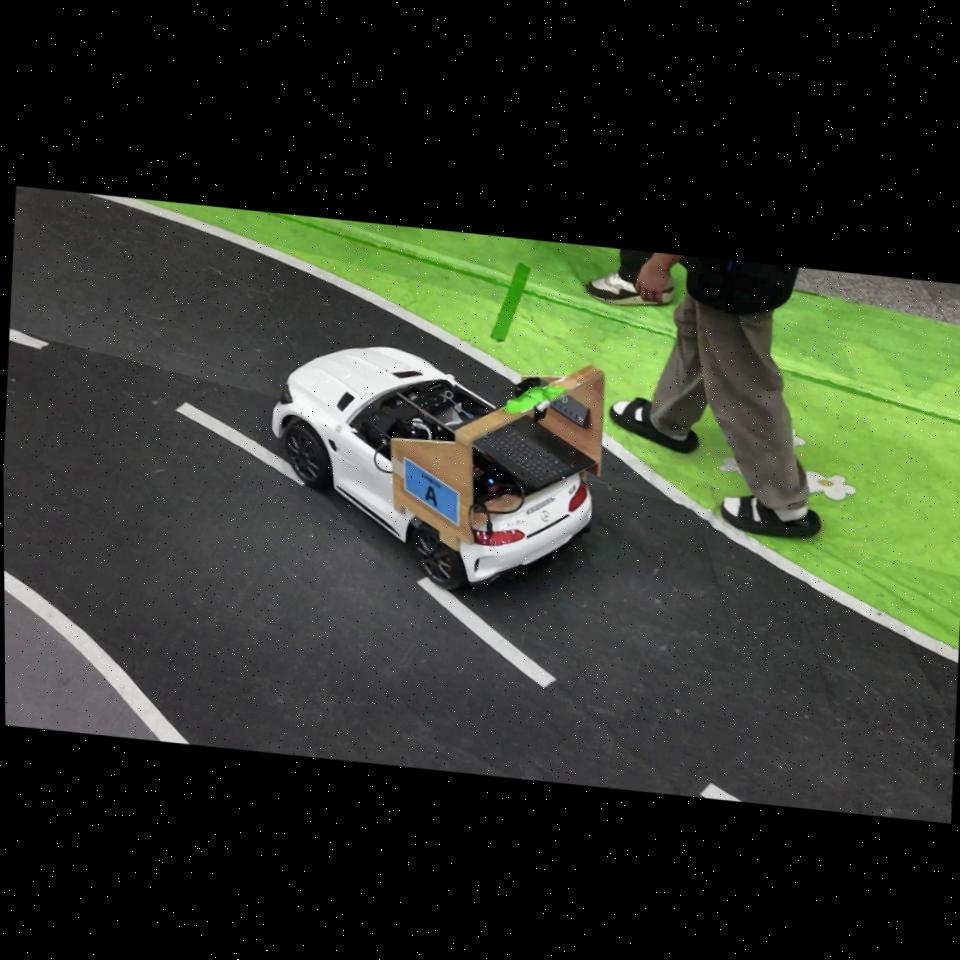broken_line: (418, 577, 555, 687), (177, 402, 305, 486), (9, 329, 48, 349), (700, 783, 741, 801)
